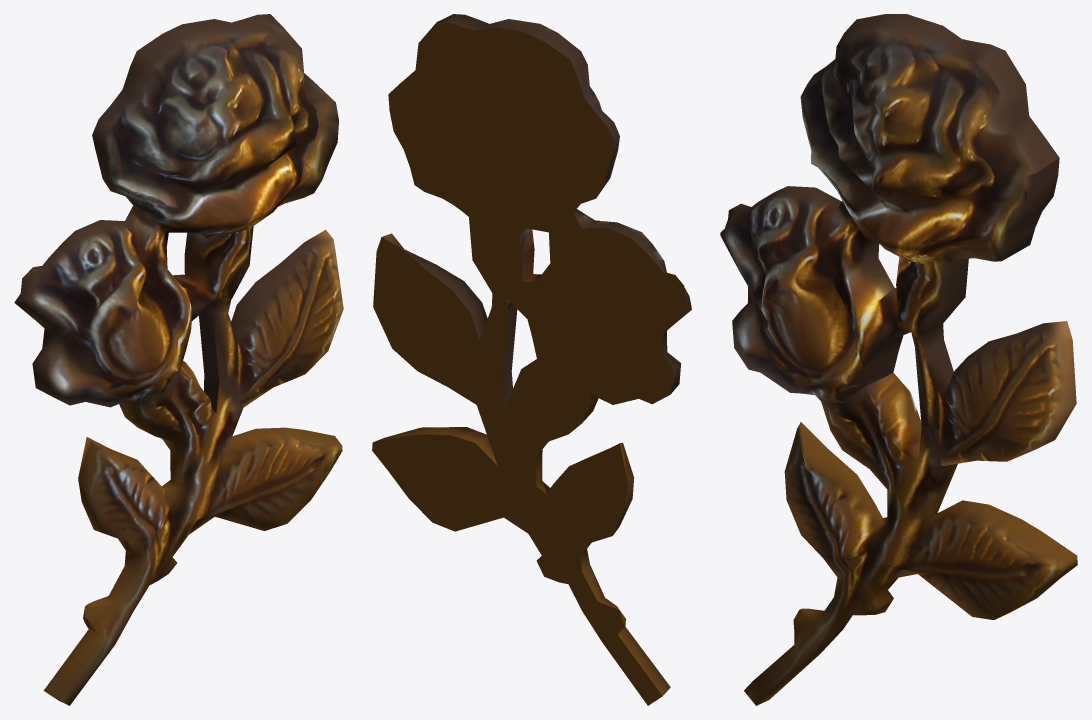
File: Art4118.fbx
3 views of the same model, side by side, from view 1: azimuth 30°, elevation 25°; view 2: azimuth 150°, elevation 25°; view 3: azimuth 330°, elevation 25° (orthographic). The views are drawn at different scales.
Visible parts, largest first — view 1: Mesh_2; view 2: Mesh_2; view 3: Mesh_2.
Boxes of the visible parts, x1,y1,x2,y2 form: Mesh_2: (14, 14, 343, 705); Mesh_2: (372, 14, 691, 705); Mesh_2: (720, 14, 1077, 705).
Size of the model in its own units: 3.3 by 6.34 by 0.722.
Materials: 1 (1 with a texture image).
